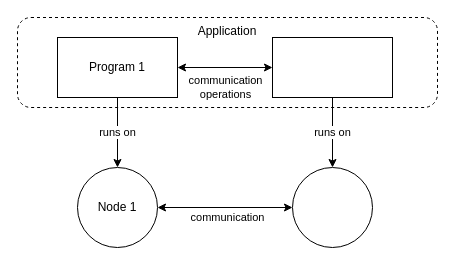
Some shapes in this 455 by 265 pixel diagram are drawn without their labels. Here are the shapes that lost their labels. From the top down, the centre of each, then its label:
pixel 332 67: Program 2
pixel 332 207: Node 2
